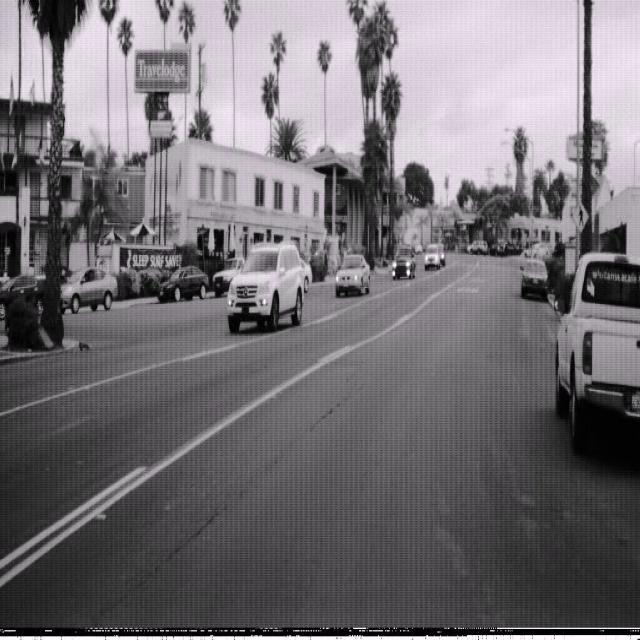pedestrianCrossing: (572, 199, 590, 234)
